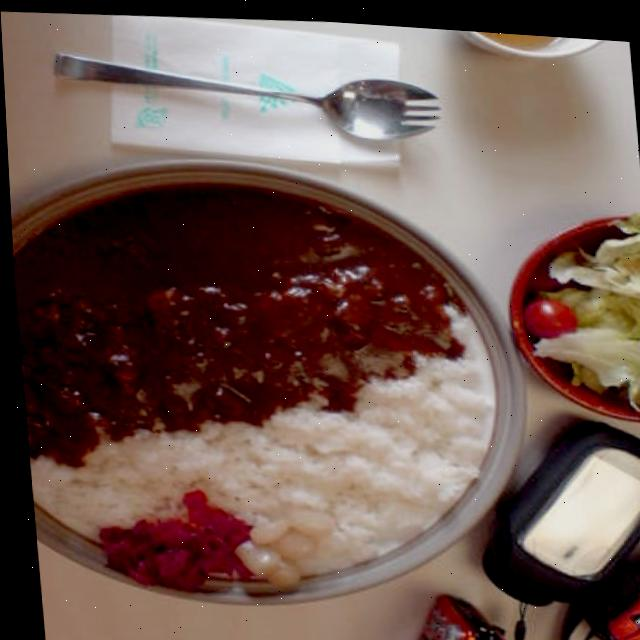牛肉菜式: (6, 135, 541, 628)
蔬菜料理: (503, 196, 640, 423)
